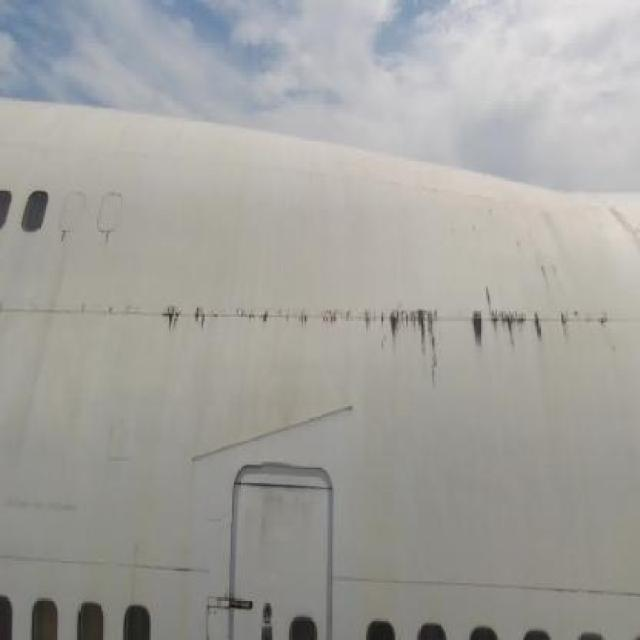Rust: (157, 288, 625, 382), (519, 243, 584, 294), (218, 588, 242, 604), (57, 228, 69, 243), (105, 230, 112, 244)
Scartch: (256, 485, 326, 566), (5, 483, 84, 523), (607, 204, 640, 257)
